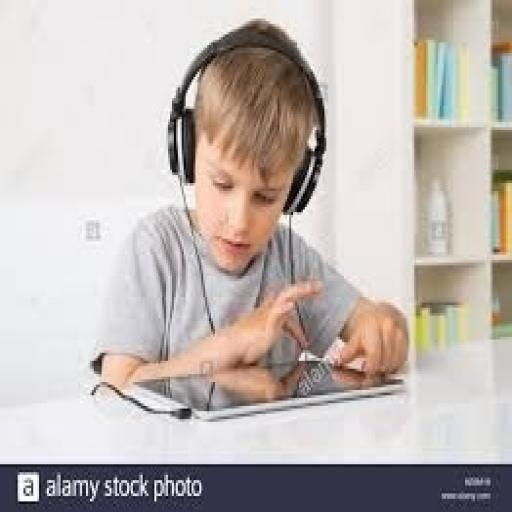listening_to_music: (94, 16, 412, 414), (164, 19, 328, 220)
